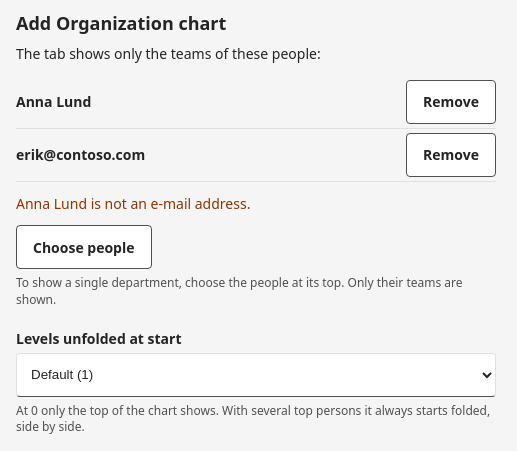
TabConfigPage › with Teams' people picker › withholds Save for names a tab saved before holds, and says which beside the list until they are removed
Click the button with aria-label "Remove Anna Lund" at (451, 102), box [406, 80, 496, 124]
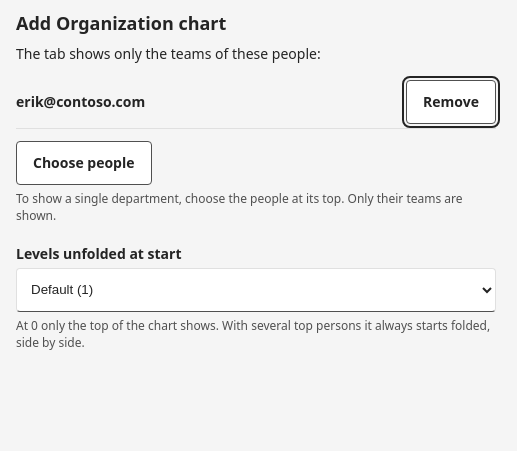
Now the text "not an e-mail address" is gone
